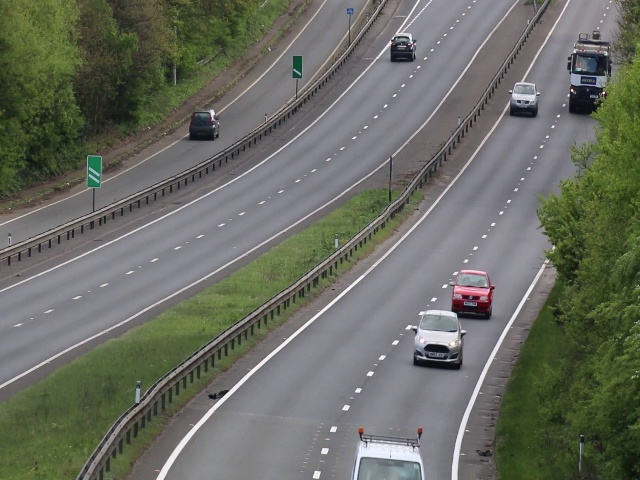car: (413, 310, 466, 373), (570, 45, 607, 117), (358, 441, 420, 480), (449, 270, 495, 320), (509, 79, 539, 117), (188, 108, 221, 140), (389, 33, 418, 64)
